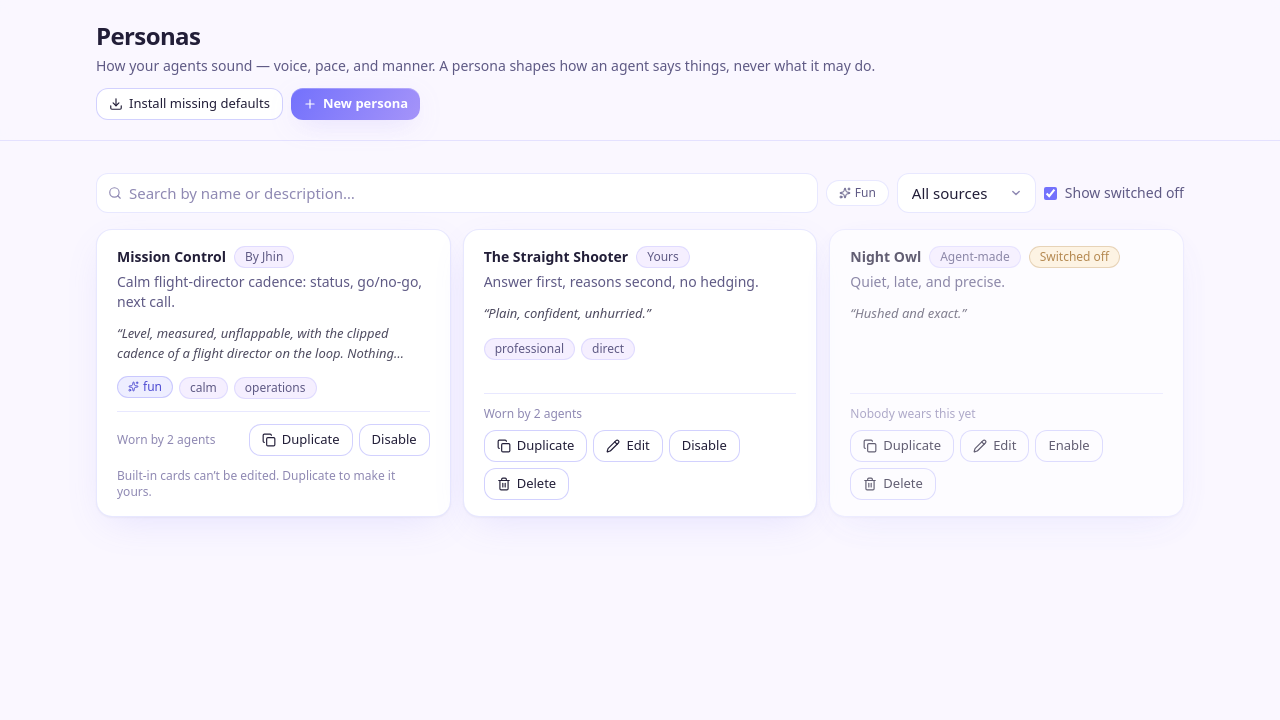
Test case: PersonasPage gallery › shows switched-off cards until the box is unticked
Expected: the list item with test id "persona-night-owl" is shown, 829,229 -> 1184,517
Click the checkbox named "Show switched-off personas": click(1050, 193) 1044,186 -> 1057,200
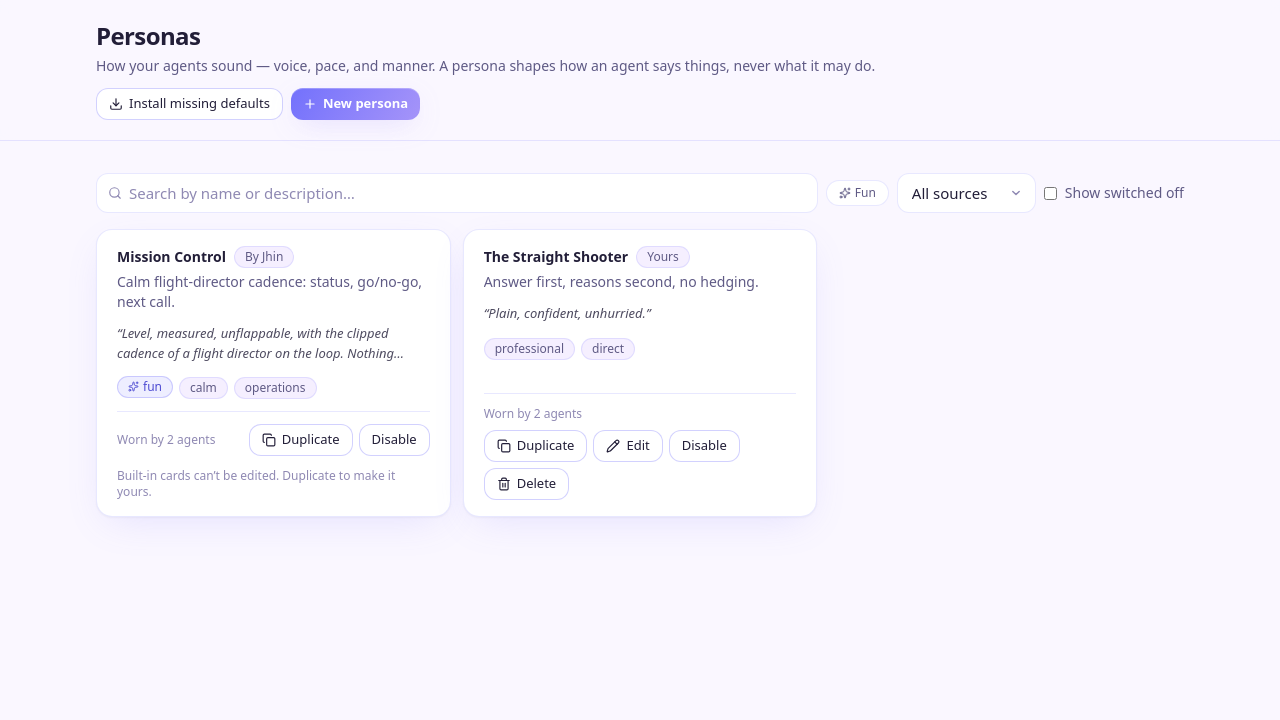
Expected: the list item with test id "persona-mission-control" is shown, 96,229 -> 451,517
Expected: the list item with test id "persona-night-owl" is gone
